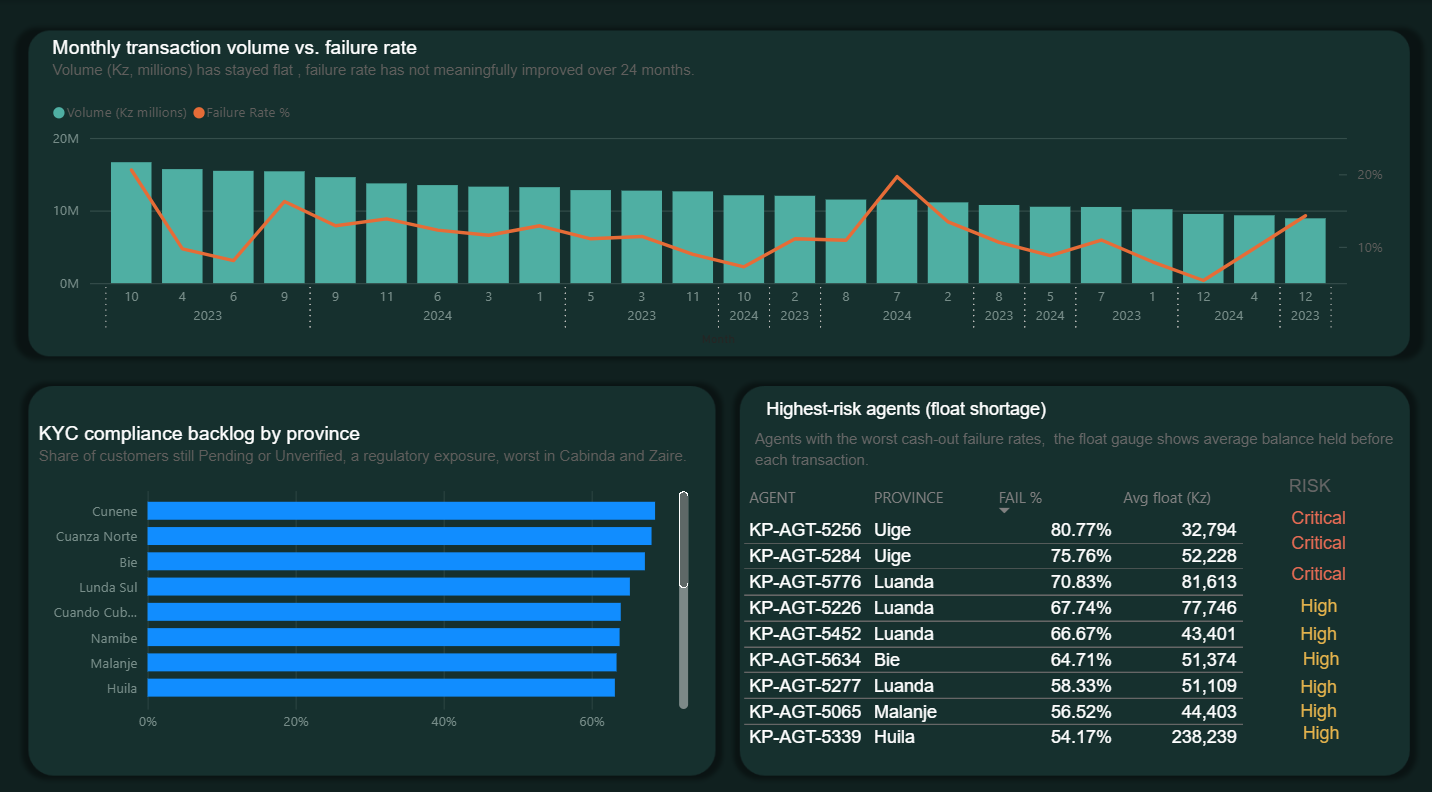

The dashboard page shown, as its layout file describes it:
{"tool":"powerbi","page":{"name":"Dashboard1","canvas":[1280,720],"ordinal":1},"visuals":[{"type":"lineStackedColumnComboChart","title":"Monthly transaction volume vs. failure rate","fields":{"Category":["fTransation.Year","fTransation.Month"],"Y2":["Metrics.Overal Failure Rate"],"Y":["Metrics.Dinheiro"]},"box":[45.4,32.6,1195.4,280.2],"z":0,"group":"g1"},{"type":"barChart","title":"KYC compliance backlog by province","fields":{"Category":["dCustumer.Customer_Province"],"Y":["Metrics.% KYC"]},"box":[32.6,376.8,588.4,283.7],"z":1000,"group":"g1"},{"type":"tableEx","fields":{"Values":["dAgent.Agent_ID","dAgent.Agent_Province","Metrics.Approval Rate","Metrics.Avg Float Balance"]},"box":[658.9,427,591.9,262.8],"z":2000,"group":"g1"},{"type":"textbox","box":[1145.8,418.5,94.7,39.8],"z":4000},{"type":"textbox","box":[1130.7,525.6,94.7,31.6],"z":5000,"group":"g1"},{"type":"textbox","box":[1122.5,447.4,109.8,42.5],"z":6000,"group":"g1"},{"type":"textbox","box":[1122.5,598.3,109.8,42.5],"z":7000},{"type":"textbox","box":[1122.5,551.7,109.8,42.5],"z":8000,"group":"g1"},{"type":"textbox","box":[1122.5,618.9,109.8,42.5],"z":9000,"group":"g1"},{"type":"textbox","box":[1123.8,639.5,109.8,42.5],"z":10000},{"type":"textbox","box":[1122.5,469.3,109.8,42.5],"z":11000},{"type":"textbox","box":[1122.5,498.2,109.8,42.5],"z":12000,"group":"g1"},{"type":"textbox","box":[1123.8,573.6,109.8,35.7],"z":13000},{"type":"textbox","box":[680.3,351.2,322.1,46.5],"z":14000,"group":"g1"},{"type":"textbox","box":[671,376.8,609.3,81.4],"z":15000,"group":"g1"},{"type":"group","id":"g1","title":"Group 1","box":[32.6,32.6,1247.7,657.2],"z":15001}]}

Visuals, with their boxes in screenshot pixels (x1, y1, x2, y2), scaled from the page's 1280x720 canvas onto the 1432x792 screenshot:
"Monthly transaction volume vs. failure rate" lineStackedColumnComboChart: box(51, 36, 1388, 344)
"KYC compliance backlog by province" barChart: box(36, 414, 695, 727)
tableEx - dAgent.Agent_ID x dAgent.Agent_Province: box(737, 470, 1399, 759)
textbox: box(1282, 460, 1388, 504)
textbox: box(1265, 578, 1371, 613)
textbox: box(1256, 492, 1379, 539)
textbox: box(1256, 658, 1379, 705)
textbox: box(1256, 607, 1379, 654)
textbox: box(1256, 681, 1379, 728)
textbox: box(1257, 703, 1380, 750)
textbox: box(1256, 516, 1379, 563)
textbox: box(1256, 548, 1379, 595)
textbox: box(1257, 631, 1380, 670)
textbox: box(761, 386, 1121, 437)
textbox: box(751, 414, 1431, 504)
"Group 1" group: box(36, 36, 1431, 759)
